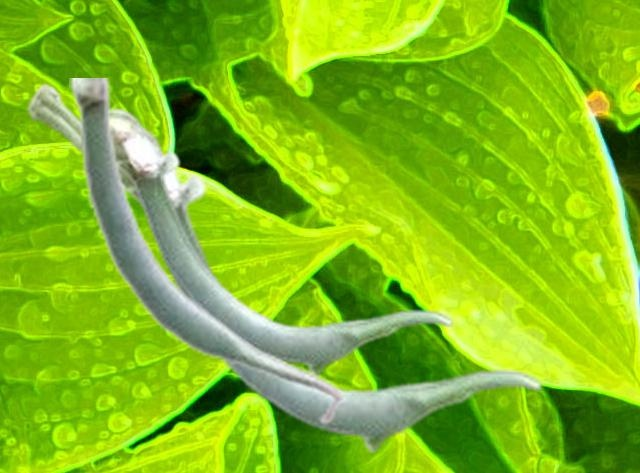french_bean: (26, 90, 542, 453), (33, 82, 453, 376), (69, 78, 344, 426)
